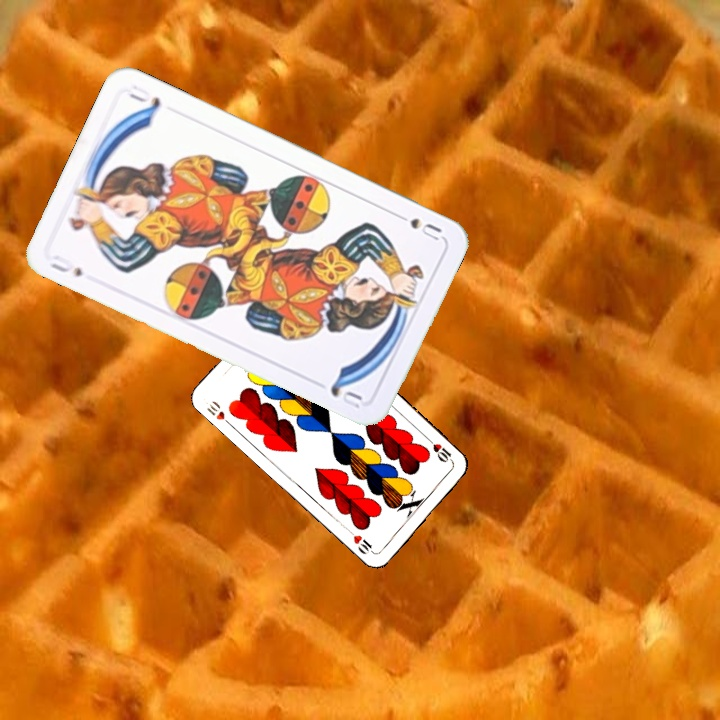H10: (202, 396, 235, 429), (424, 435, 456, 466)
SU: (389, 209, 444, 243), (46, 250, 85, 280)
